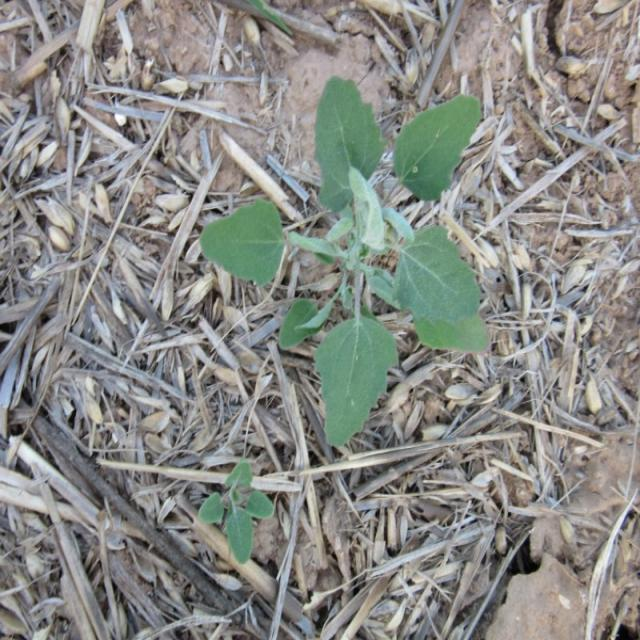ca: (199, 78, 496, 446)
